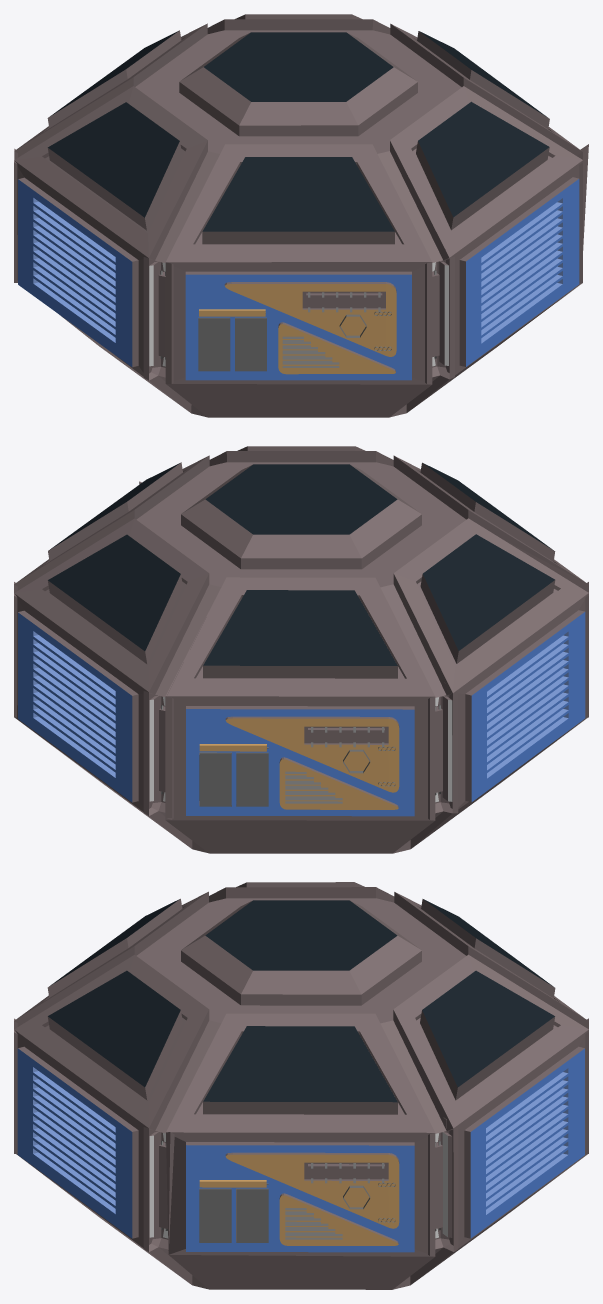
3 renders of one model, top to bottom at view 1: azimuth 30°, elevation 25°; view 2: azimuth 150°, elevation 25°; view 3: azimuth 270°, elevation 25°, orthographic.
Visible parts, largest first — view 1: SpaceStation, Extra_2; view 2: SpaceStation, Extra_1; view 3: SpaceStation, Extra.
Part boxes in pixels (x1,y1,x2,y2): SpaceStation: [14, 14, 588, 417]; Extra_2: [160, 270, 436, 371]; SpaceStation: [14, 446, 588, 853]; Extra_1: [161, 705, 440, 806]; SpaceStation: [14, 882, 588, 1289]; Extra: [161, 1140, 440, 1242].
Bounding box in the file's own units: 1835 × 1048 × 1960.
